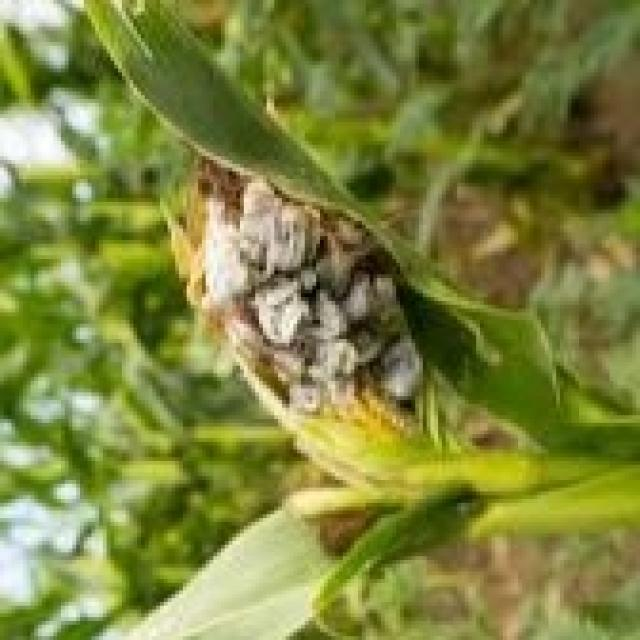Leaf_Scald: (105, 120, 482, 445)
